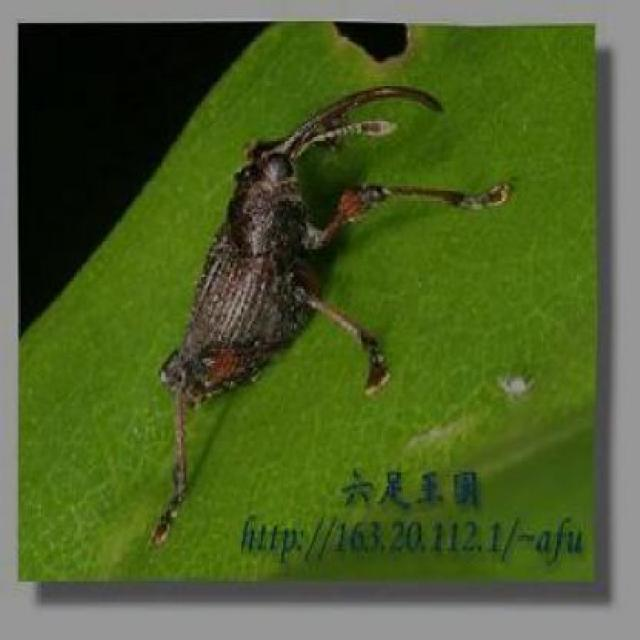rice-bug: (157, 106, 400, 440)
